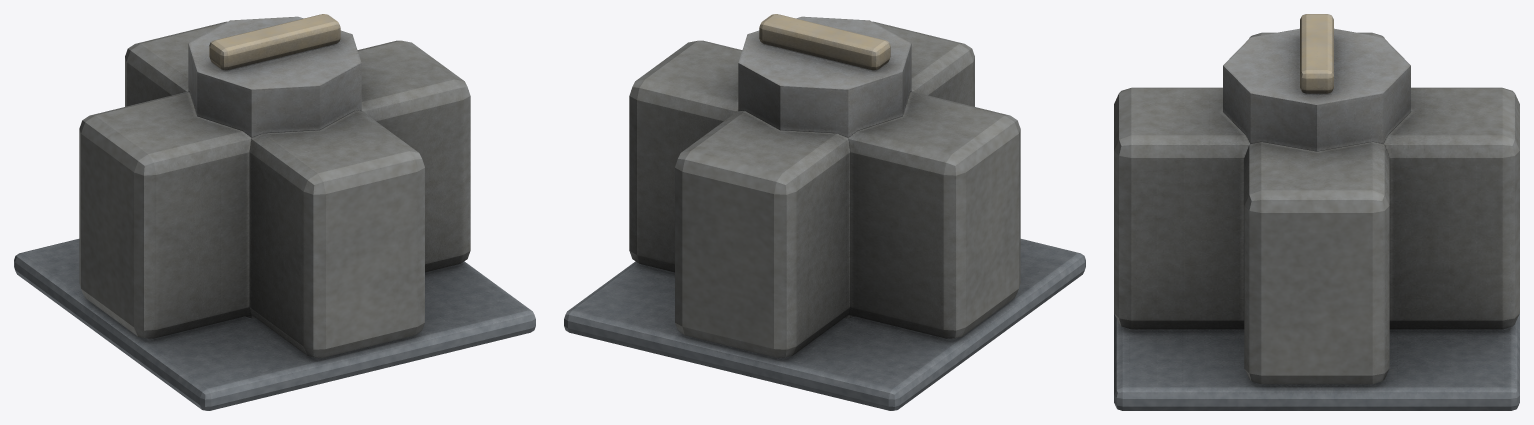
The model's file is com_wall_cross.glb.
The picture shows the model from 3 angles, left to right: view 1: azimuth 30°, elevation 25°; view 2: azimuth 150°, elevation 25°; view 3: azimuth 270°, elevation 25°; orthographic projection. The views are drawn at different scales.
Parts seen in each view (by area): view 1: com_wall_cross; view 2: com_wall_cross; view 3: com_wall_cross.
Boxes of the visible parts, x1=… form: com_wall_cross: x1=14, y1=14, x2=535, y2=410; com_wall_cross: x1=564, y1=14, x2=1085, y2=410; com_wall_cross: x1=1114, y1=14, x2=1519, y2=410.
Size of the model in its own units: 0.95 by 0.74 by 0.95.
Materials: 1 (1 with a texture image).
